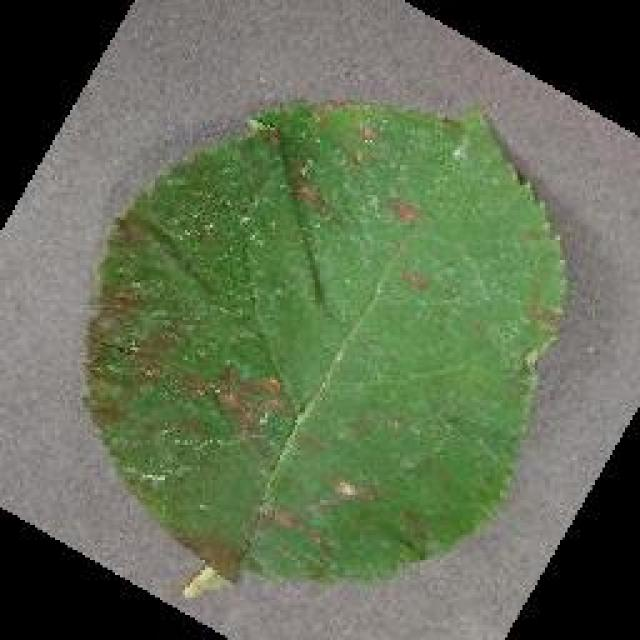apple cedar apple rust: (78, 95, 570, 593)
